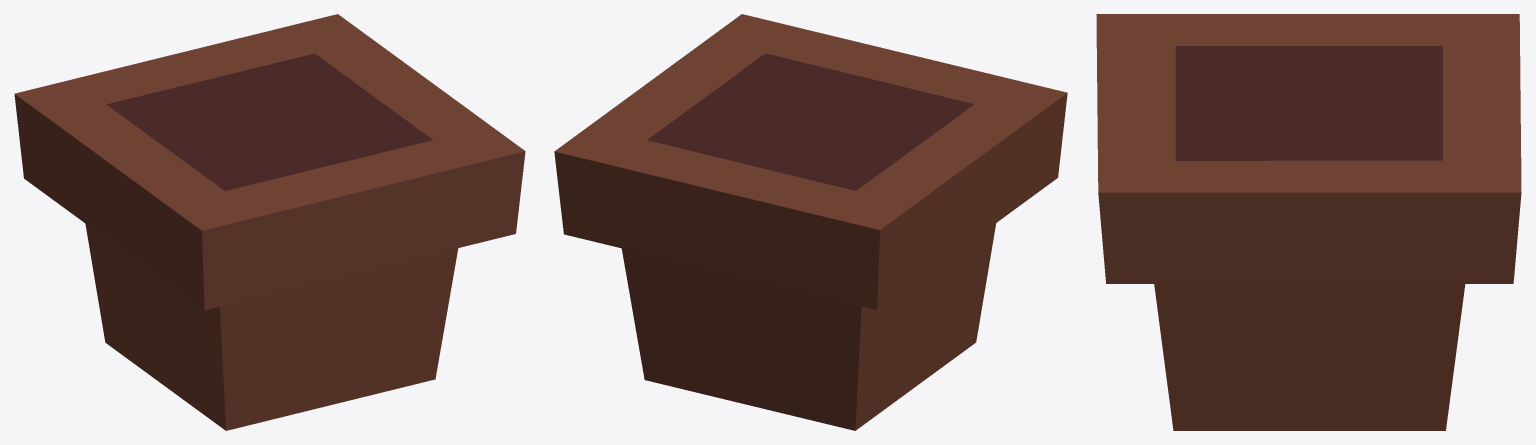
File: flower_pot_02.fbx
3 views of the same model, side by side, from view 1: azimuth 30°, elevation 25°; view 2: azimuth 150°, elevation 25°; view 3: azimuth 270°, elevation 25° (orthographic). The views are drawn at different scales.
Parts seen in each view (by area): view 1: flower_pot_02; view 2: flower_pot_02; view 3: flower_pot_02.
Part boxes in pixels (x1,y1,x2,y2): flower_pot_02: (14,14,525,430); flower_pot_02: (554,14,1067,430); flower_pot_02: (1096,14,1521,430).
Bounding box in the file's own units: 72.07 × 50.69 × 72.44.
